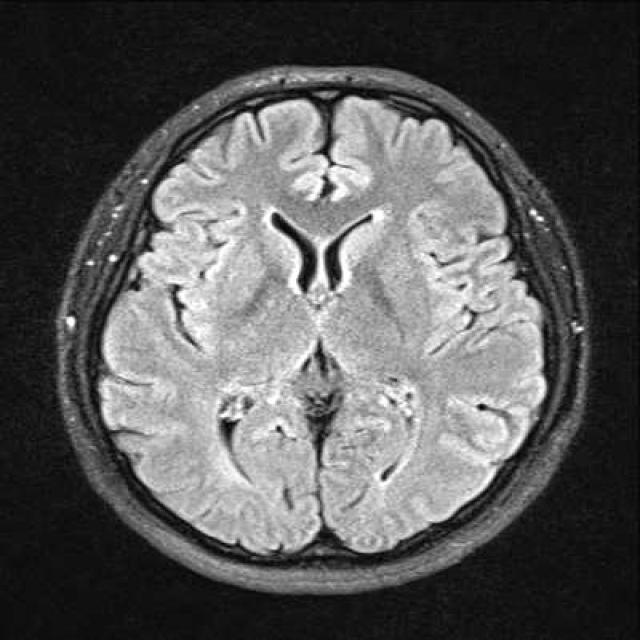notumor: (58, 68, 586, 591)
